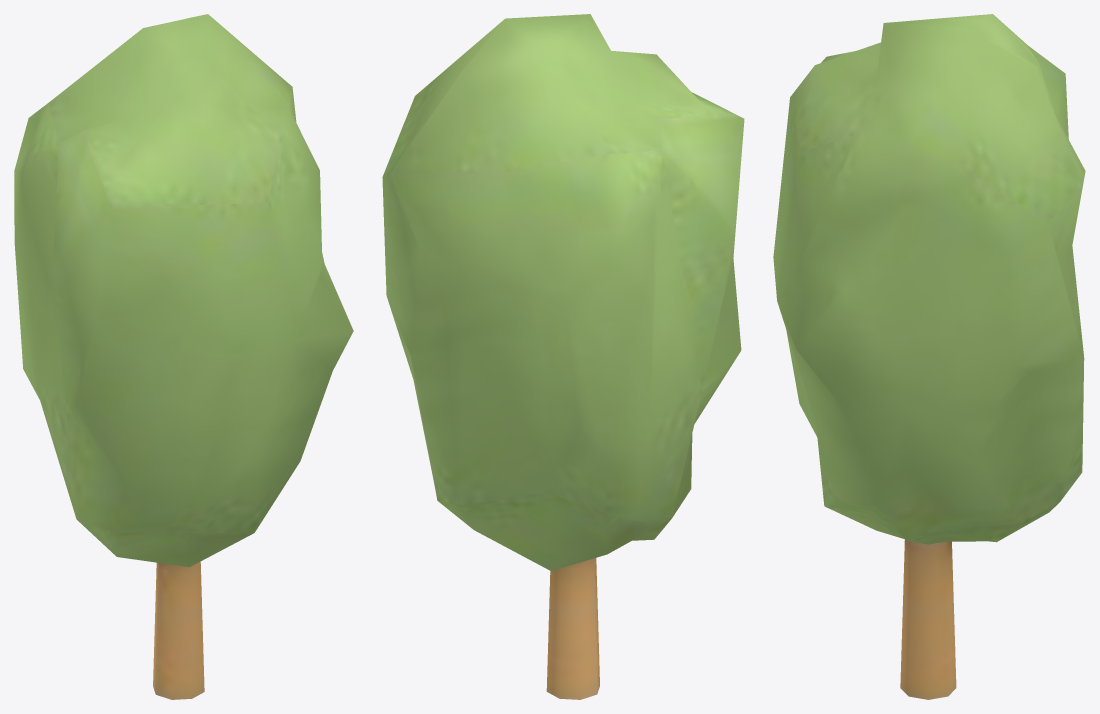
The model's file is tree1.glb.
3 views of the same model, side by side, from view 1: azimuth 30°, elevation 25°; view 2: azimuth 150°, elevation 25°; view 3: azimuth 270°, elevation 25° (orthographic). The views are drawn at different scales.
Visible parts, largest first — view 1: Tree1; view 2: Tree1; view 3: Tree1.
Part boxes in pixels (x1,y1,x2,y2): Tree1: [14, 14, 353, 699]; Tree1: [382, 14, 744, 699]; Tree1: [773, 14, 1085, 699].
Bounding box in the file's own units: 3.38 × 7.45 × 3.09.
1 material, 1 textured.
